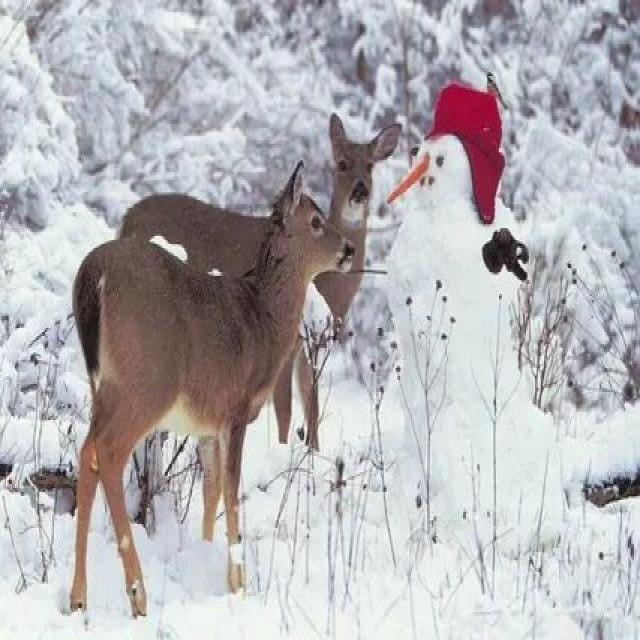deer: (46, 141, 394, 563), (146, 55, 424, 488)
